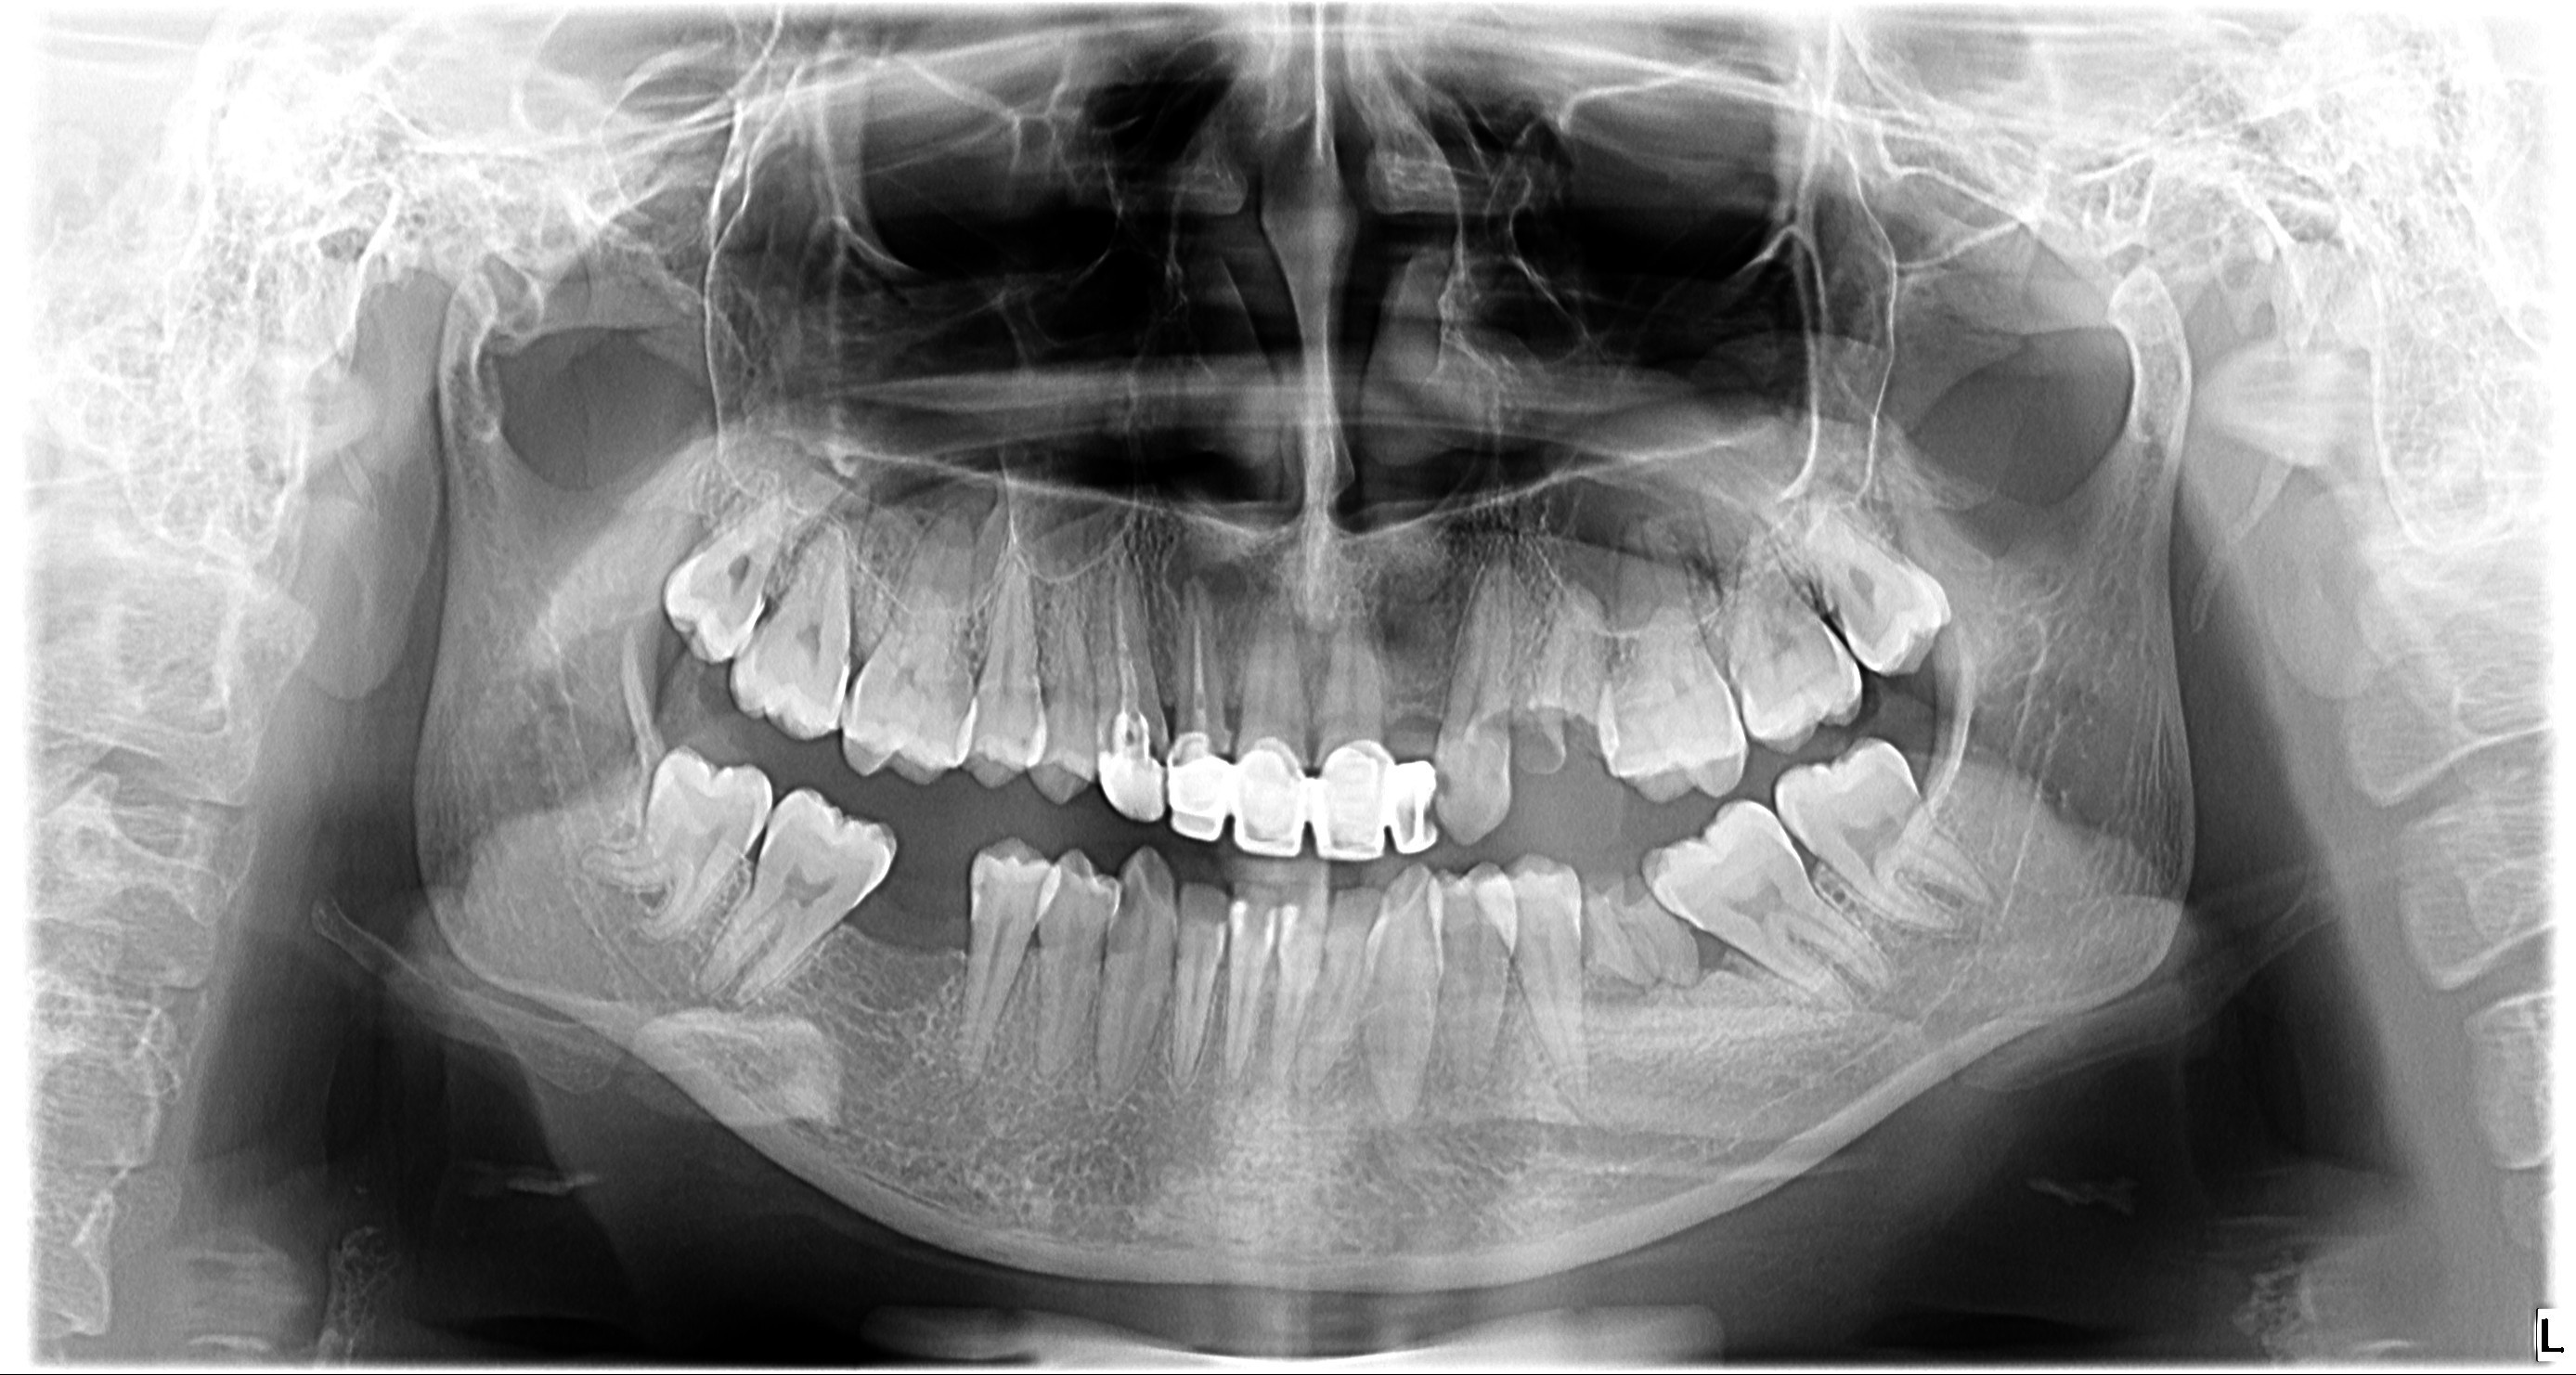CAR: (1428, 775, 1460, 816), (1116, 876, 1141, 927)
END: (1099, 571, 1153, 743), (1189, 593, 1216, 739)
IMT: (1687, 927, 1734, 973), (1387, 711, 1445, 746), (1700, 636, 1731, 678), (1218, 707, 1252, 745)
OBT: (1095, 739, 1438, 859)
PRR: (1256, 901, 1305, 947), (1227, 903, 1249, 942)
ROT: (1516, 581, 1629, 777), (1571, 874, 1695, 993)
